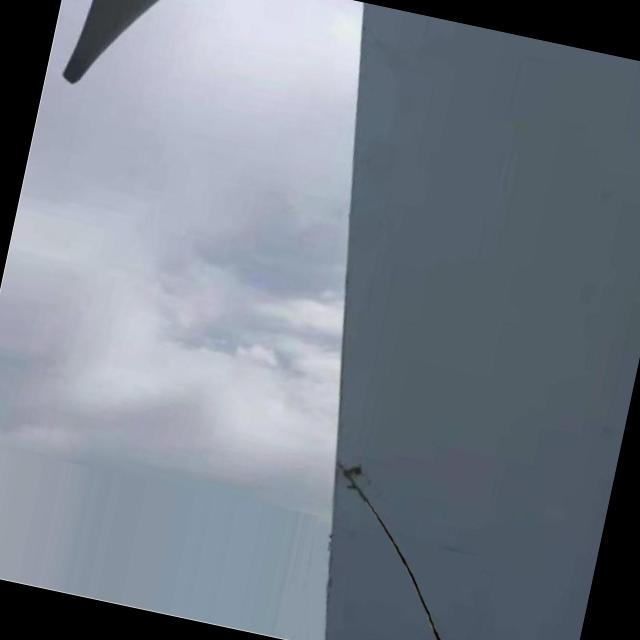crack: (307, 467, 476, 640)
